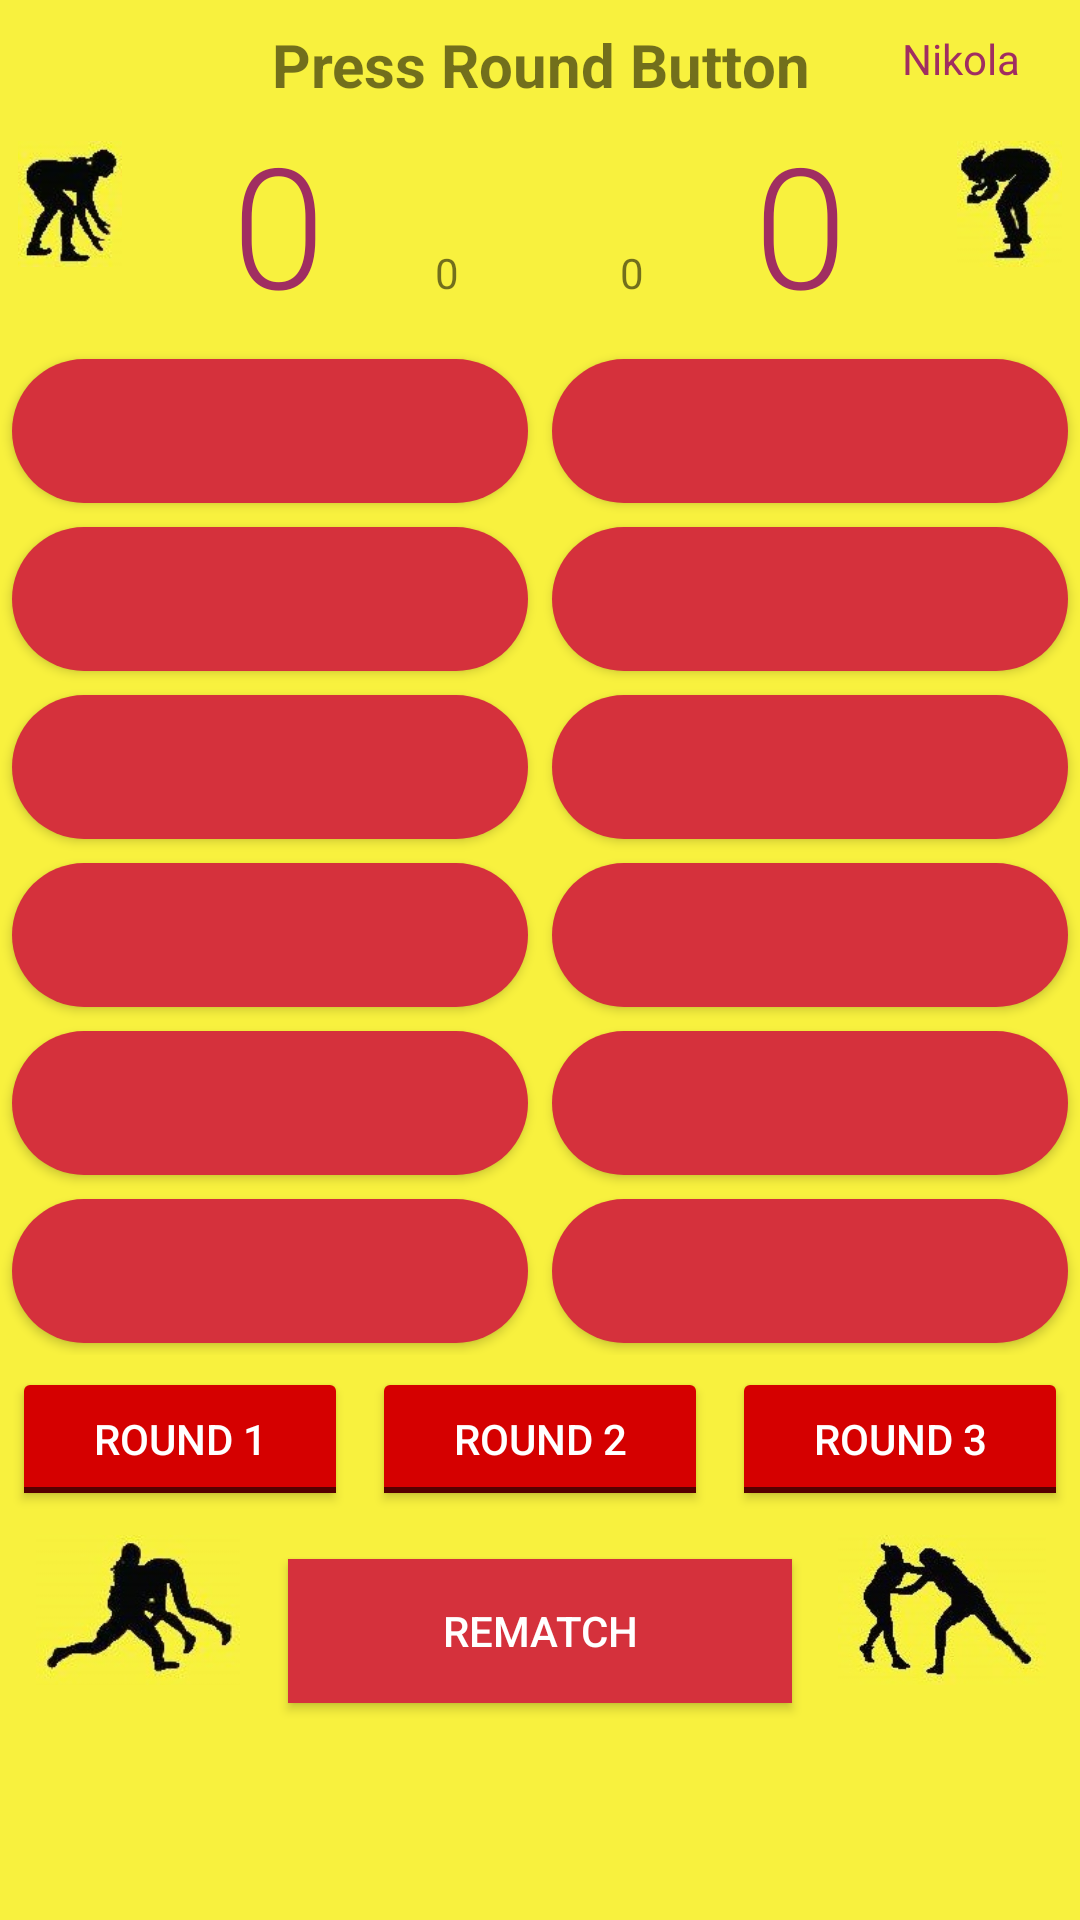

Icons on this 1080w x 1920h Android screen, each with its box as (x1, y1, x2, y2):
player: (23, 141, 119, 267), (957, 141, 1053, 262)
